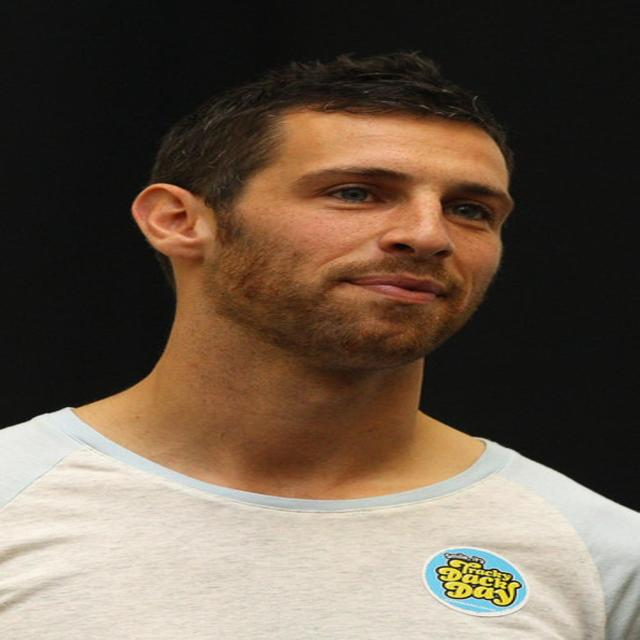Face: (206, 101, 546, 344)
